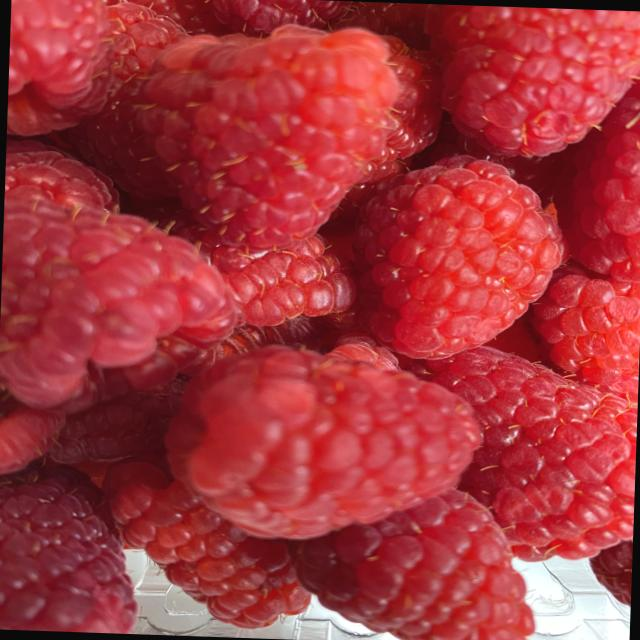raspberries: (5, 0, 637, 639)
